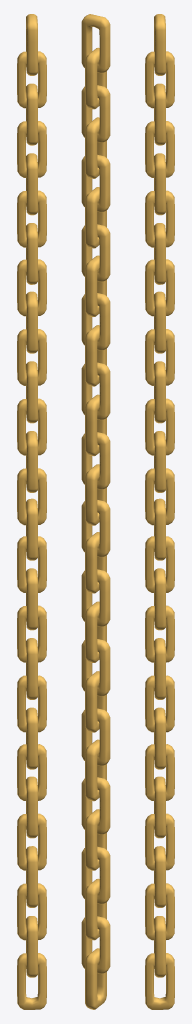
File: M_Chain4HangingLantern.fbx
3 views of the same model, side by side, from view 1: azimuth 90°, elevation 25°; view 2: azimuth 150°, elevation 25°; view 3: azimuth 270°, elevation 25° (orthographic).
Visible parts, largest first — view 1: Chain06 (×4), Chain08 (×4), Chain07 (×4), Chain02 (×4), Chain03 (×4), Chain01 (×4), Chain04 (×4); view 2: Chain04 (×4), Chain06 (×4), Chain07 (×4), Chain01 (×4), Chain02 (×4), Chain08 (×4), Chain03 (×4); view 3: Chain06 (×4), Chain08 (×4), Chain07 (×4), Chain02 (×4), Chain03 (×4), Chain01 (×4), Chain04 (×4).
Boxes of the visible parts, <box> form: Chain06 (×4): <box>17,223,46,1009</box>; Chain08 (×4): <box>17,190,46,977</box>; Chain07 (×4): <box>17,153,46,940</box>; Chain02 (×4): <box>17,83,46,870</box>; Chain03 (×4): <box>17,51,46,838</box>; Chain01 (×4): <box>17,121,46,907</box>; Chain04 (×4): <box>17,14,46,800</box>; Chain04 (×4): <box>81,14,110,801</box>; Chain06 (×4): <box>81,224,110,1009</box>; Chain07 (×4): <box>81,154,110,940</box>; Chain01 (×4): <box>81,117,110,904</box>; Chain02 (×4): <box>81,85,110,870</box>; Chain08 (×4): <box>81,187,110,974</box>; Chain03 (×4): <box>81,47,110,834</box>; Chain06 (×4): <box>145,223,174,1009</box>; Chain08 (×4): <box>145,190,174,977</box>; Chain07 (×4): <box>145,153,174,940</box>; Chain02 (×4): <box>145,83,174,870</box>; Chain03 (×4): <box>145,51,174,838</box>; Chain01 (×4): <box>145,121,174,907</box>; Chain04 (×4): <box>145,14,174,800</box>.
Size of the model in its own units: 6.37 by 232 by 6.37.
